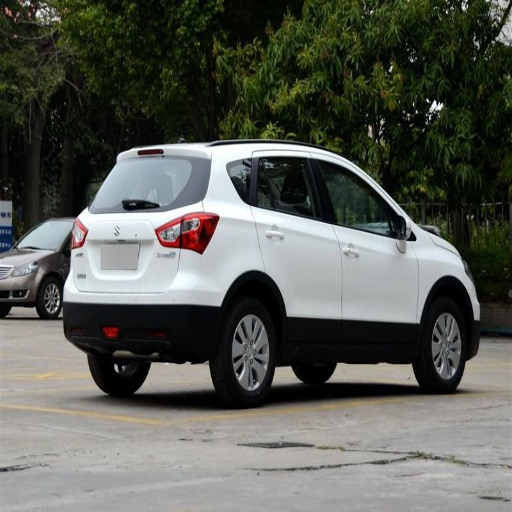back_bumper: (62, 248, 229, 352)
back_right_door: (251, 152, 342, 342)
tailgate: (79, 207, 181, 283)
trunk: (73, 213, 185, 295)
